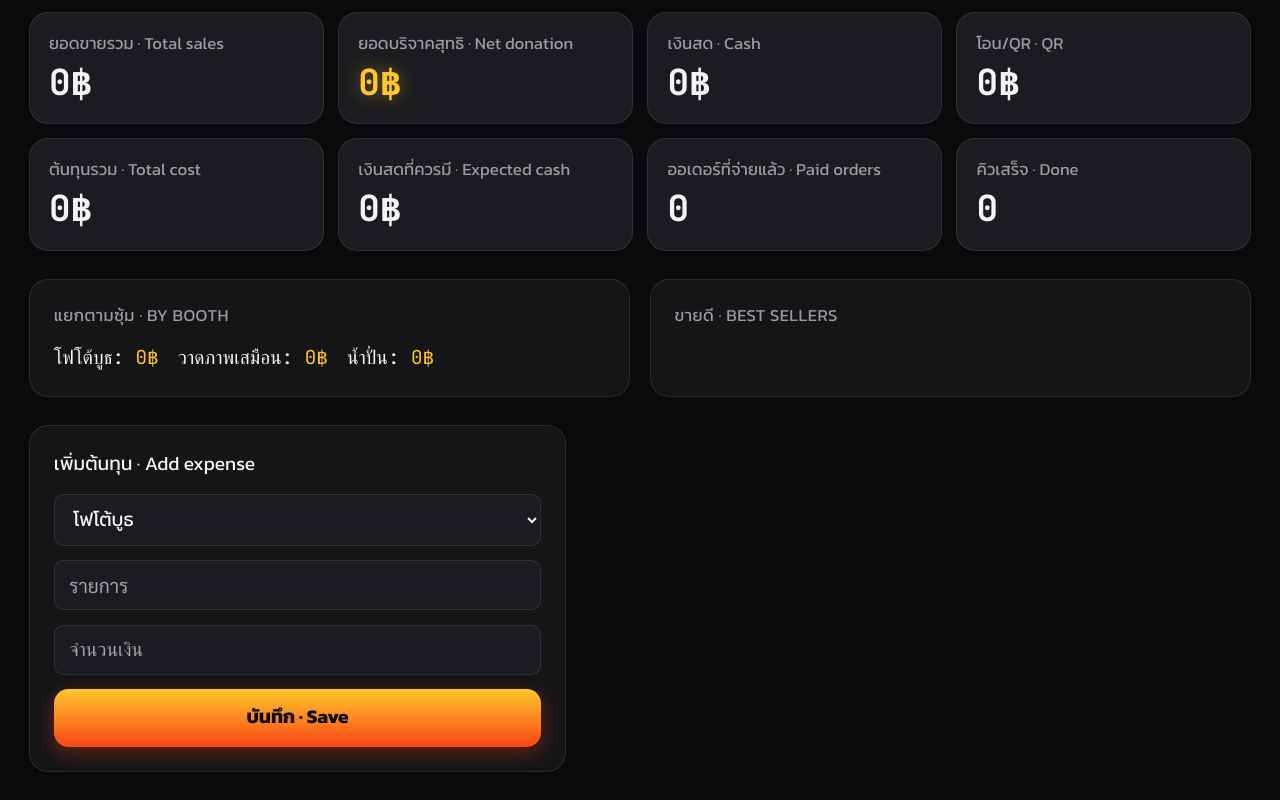
Test: shows an error alert if saving the expense is rejected
(page scrolled)
In the field labelled "รายการ": {"x": 298, "y": 585} [54,560,541,610], type "ยาคูลท์"
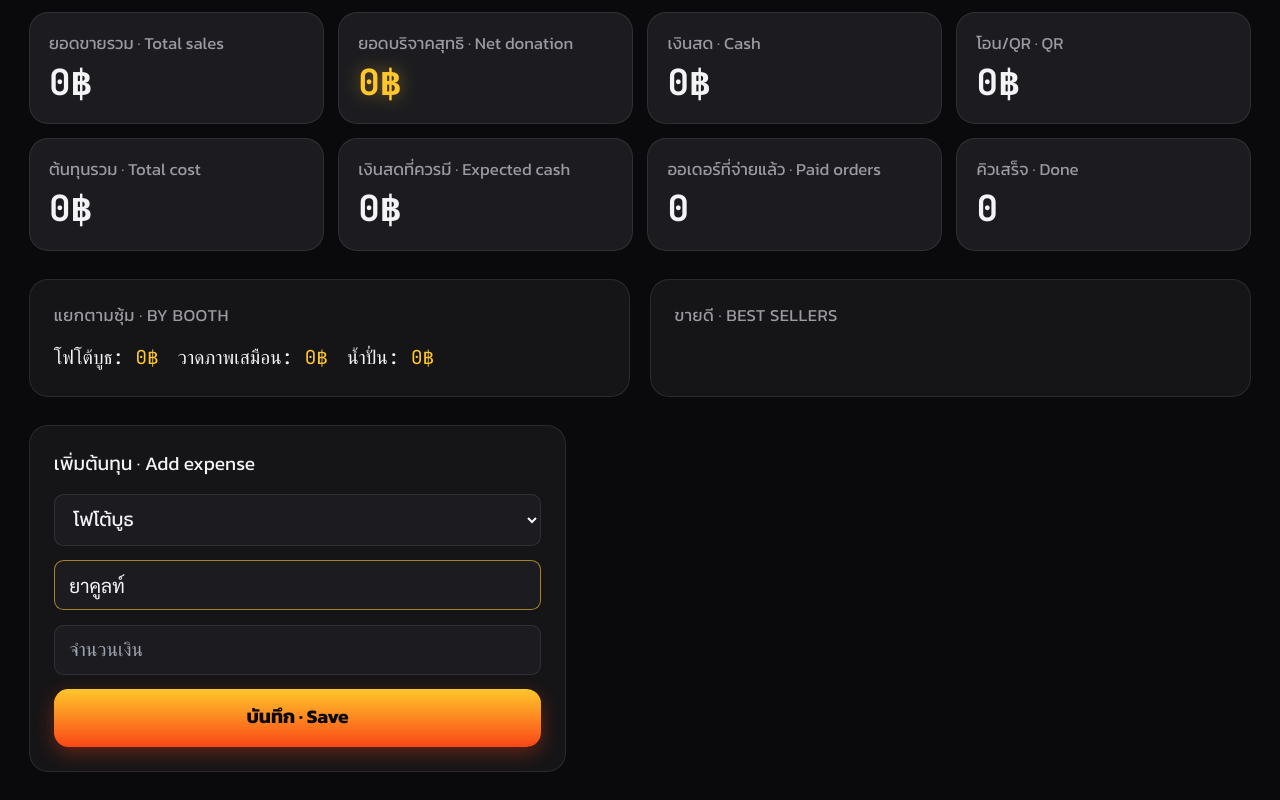
In the field labelled "จำนวนเงิน": {"x": 298, "y": 650} [54,625,541,675], type "250"
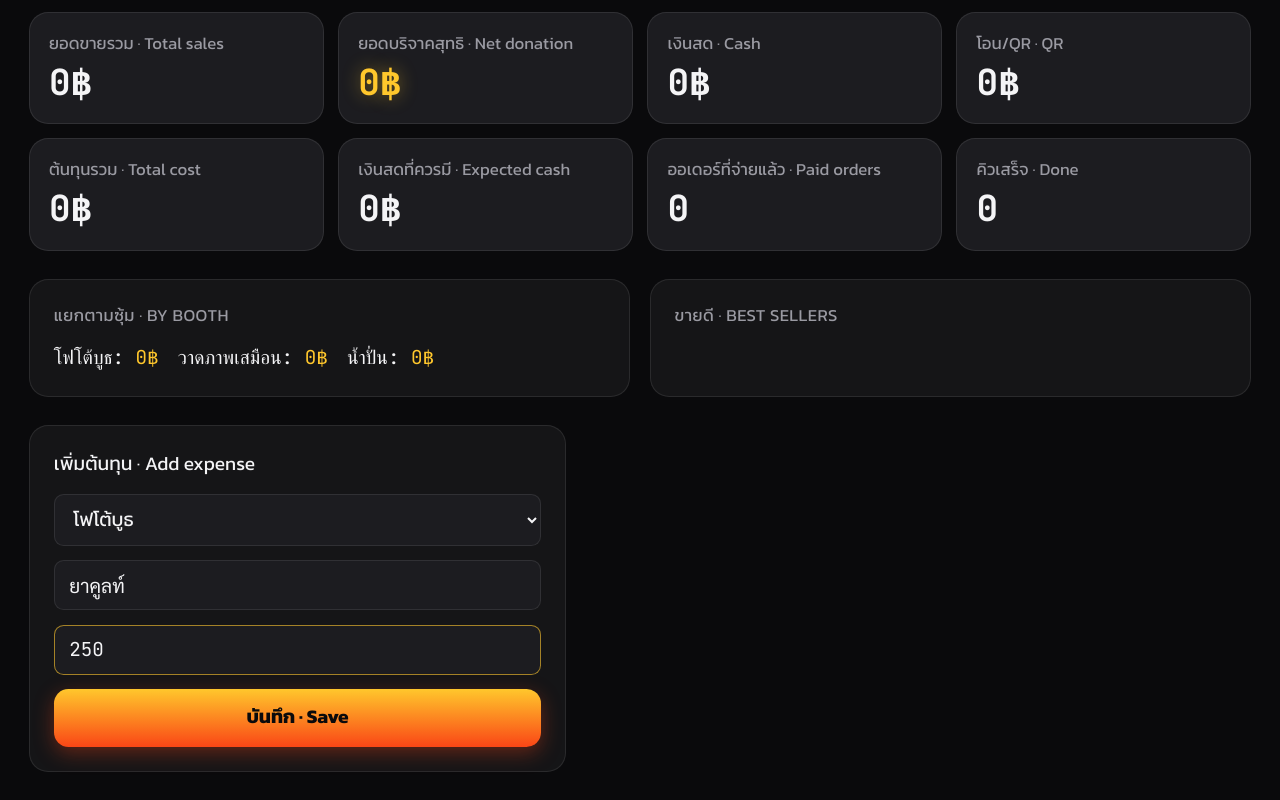
Click the button "บันทึก · Save": {"x": 298, "y": 718} [54,689,541,746]
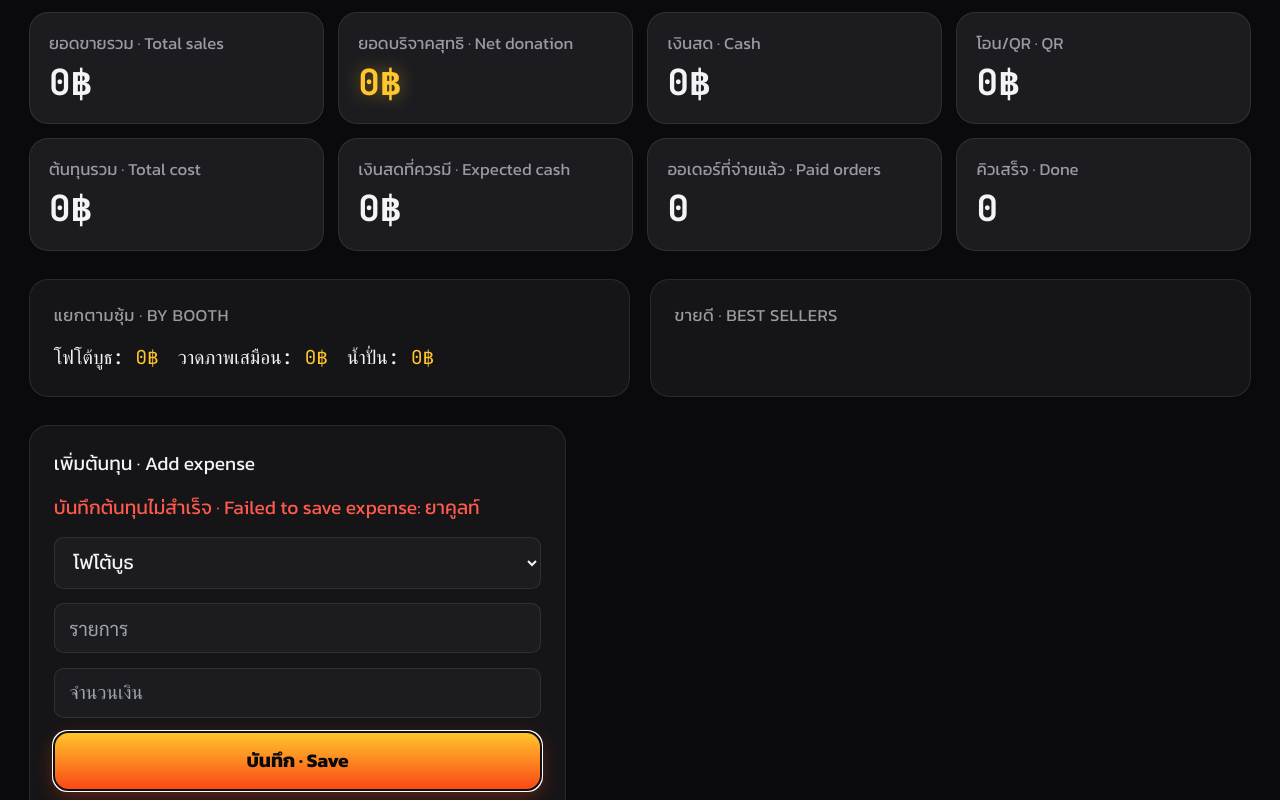
Expected: the message "บันทึกต้นทุนไม่สำเร็จ · Failed to save expense: ยาคูลท์" is shown, [54,494,541,522]
